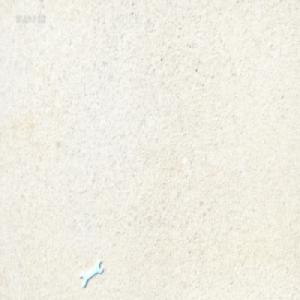Wrench: (81, 259, 105, 288)
